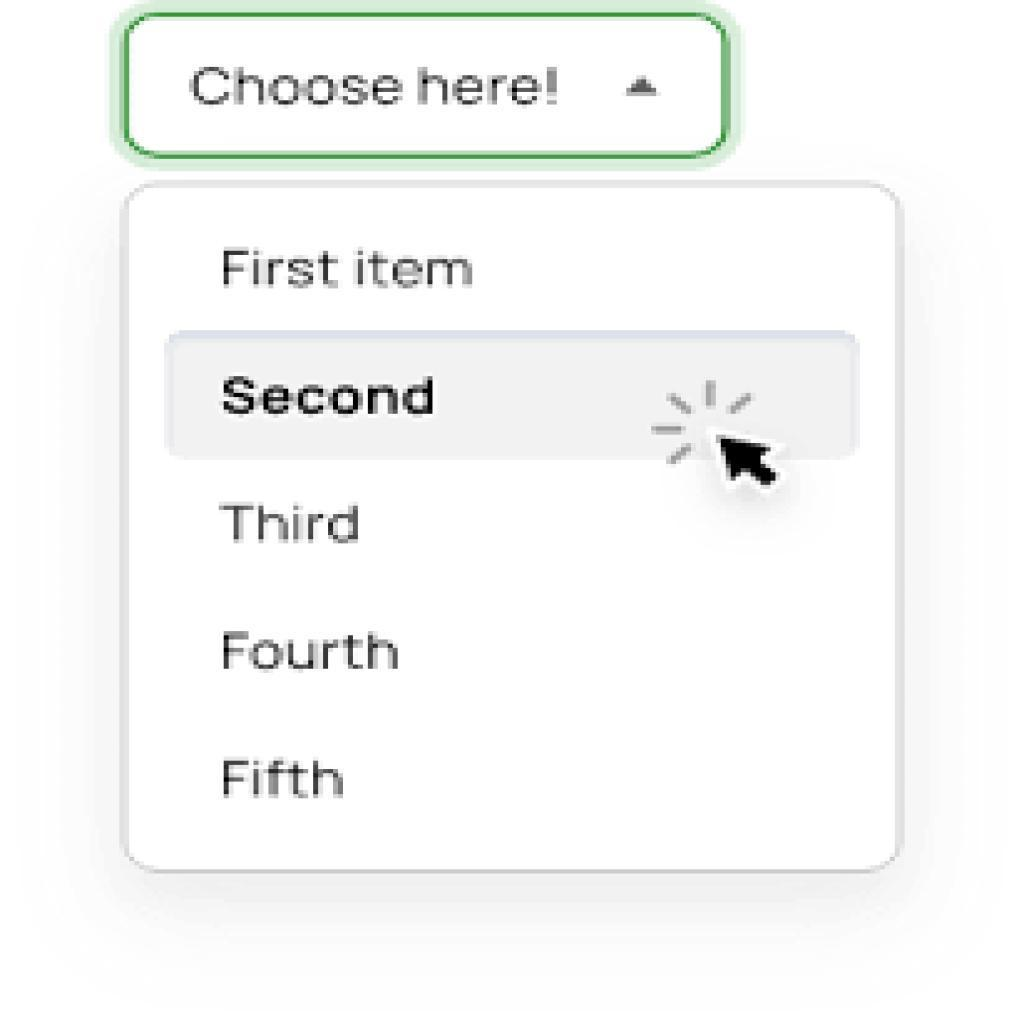dropdown: (127, 13, 722, 157)
